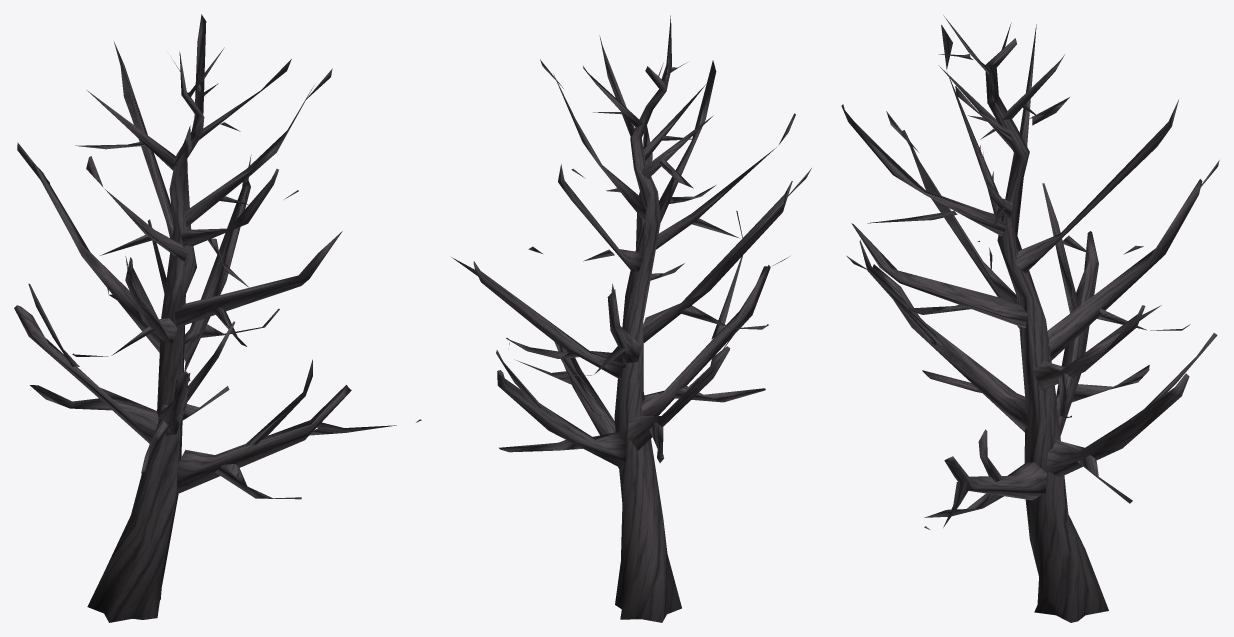
Rendered from deadtree.glb.
The picture shows the model from 3 angles, left to right: view 1: azimuth 30°, elevation 25°; view 2: azimuth 150°, elevation 25°; view 3: azimuth 270°, elevation 25°; orthographic projection. The views are drawn at different scales.
Visible parts, largest first — view 1: DeadTree_2; view 2: DeadTree_2; view 3: DeadTree_2.
Part boxes in pixels (<box>): DeadTree_2: <box>14,14,421,622</box>; DeadTree_2: <box>451,15,811,622</box>; DeadTree_2: <box>841,15,1219,622</box>.
Bounding box in the file's own units: 6.59 × 11.28 × 6.34.
Materials: 1 (1 with a texture image).
